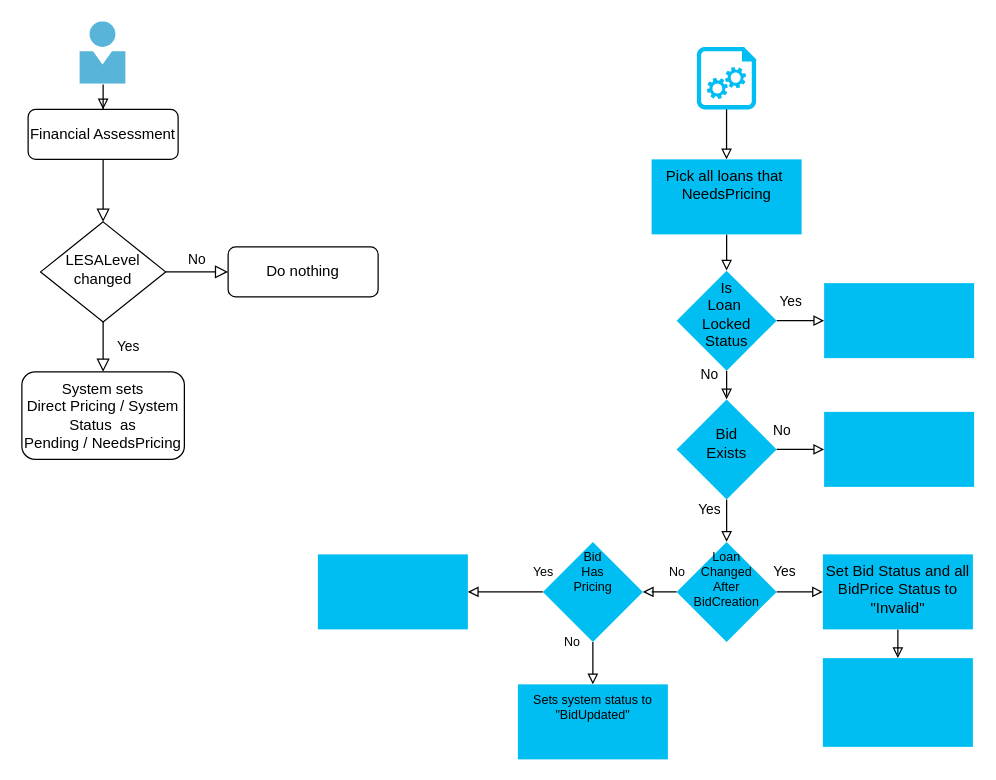
This 996x780 diagram has some shape labels left out. The shapes that lost their labels are listed below. From the top down, each one's centre as x and y in pixels, then its label:
(726,77): Hangfire BidCreator
(899,320): Does nothing
(899,448): Creates new Bid Set system status to "BidCreated"
(392,591): Sets syste status to "BidPriceInvalid" & Sets All BidPrice status to "Invalid"
(897,702): Create New Bid and Set system status to "OldBidInvalidAnd NewBidCreated"
